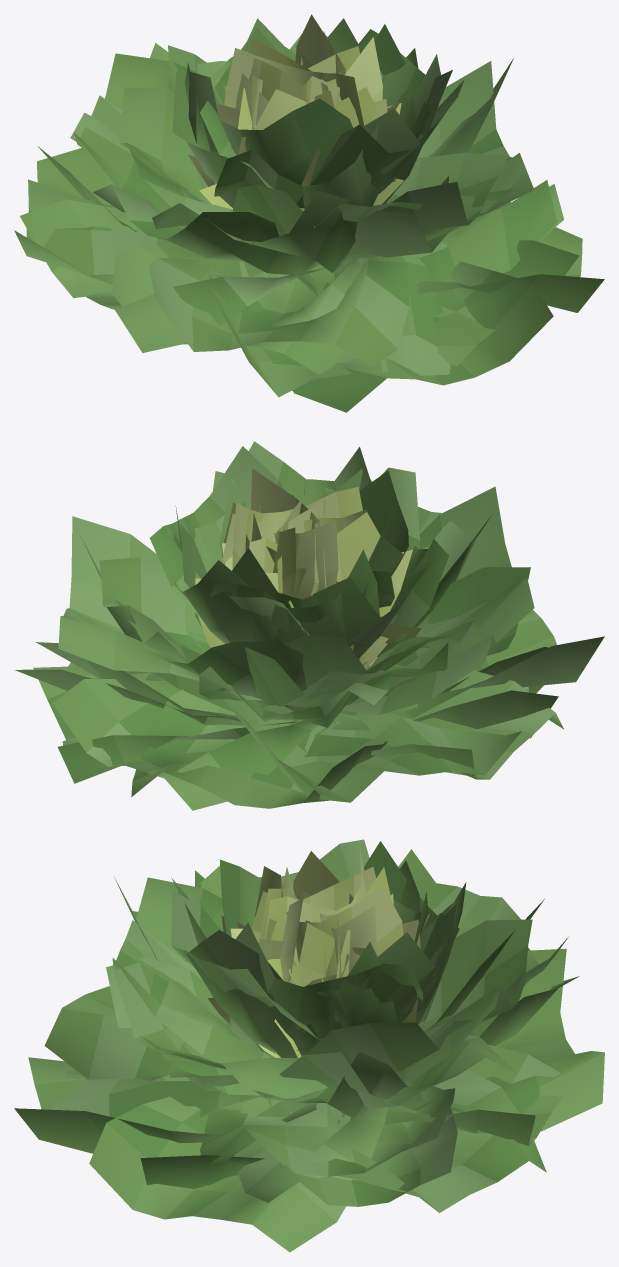
Rendered from salade_laitue_mur.glb.
3 views of the same model, one above another, from view 1: azimuth 30°, elevation 25°; view 2: azimuth 150°, elevation 25°; view 3: azimuth 270°, elevation 25° (orthographic). The views are drawn at different scales.
Parts seen in each view (by area): view 1: Salade_Feuilles_ext, Salade_Feuilles_int; view 2: Salade_Feuilles_ext, Salade_Feuilles_int; view 3: Salade_Feuilles_ext, Salade_Feuilles_int.
Part boxes in pixels (x1,y1,x2,y2): Salade_Feuilles_ext: (14, 18, 604, 412); Salade_Feuilles_int: (188, 14, 403, 209); Salade_Feuilles_ext: (15, 441, 604, 810); Salade_Feuilles_int: (195, 468, 421, 669); Salade_Feuilles_ext: (14, 839, 604, 1252); Salade_Feuilles_int: (208, 847, 429, 1057).
Size of the model in its own units: 0.5467 by 0.265 by 0.5437.
